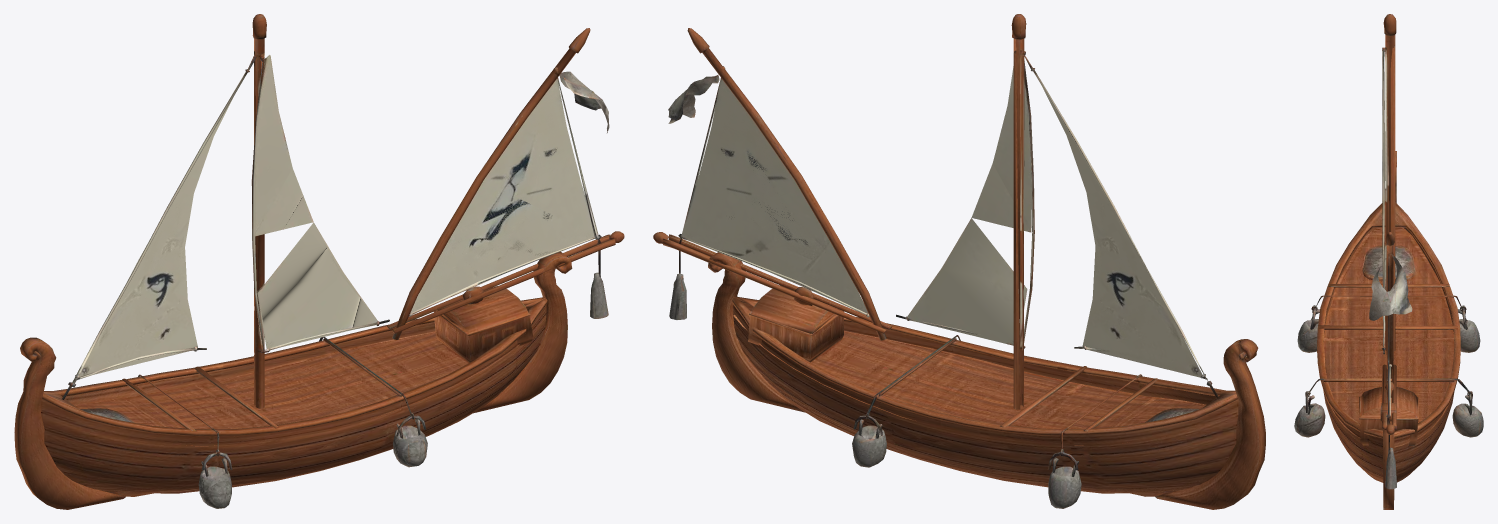
File: boat_smallship.glb
3 renders of one model, left to right at view 1: azimuth 30°, elevation 25°; view 2: azimuth 150°, elevation 25°; view 3: azimuth 270°, elevation 25°, orthographic. The views are drawn at different scales.
Bounding box in the file's own units: 0.957 × 0.6763 × 0.3022.
Materials: 1 (1 with a texture image).
